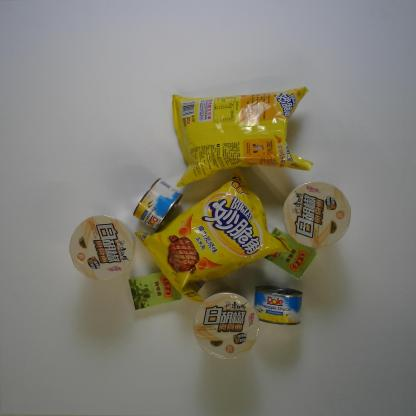Candy: (264, 226, 317, 281), (128, 270, 183, 311)
Canned Food: (132, 176, 184, 232), (253, 284, 304, 327)
Instant Noodles: (282, 180, 352, 249), (193, 291, 261, 361), (67, 213, 136, 281)
Puffed Food: (132, 166, 292, 304), (172, 85, 314, 188)
